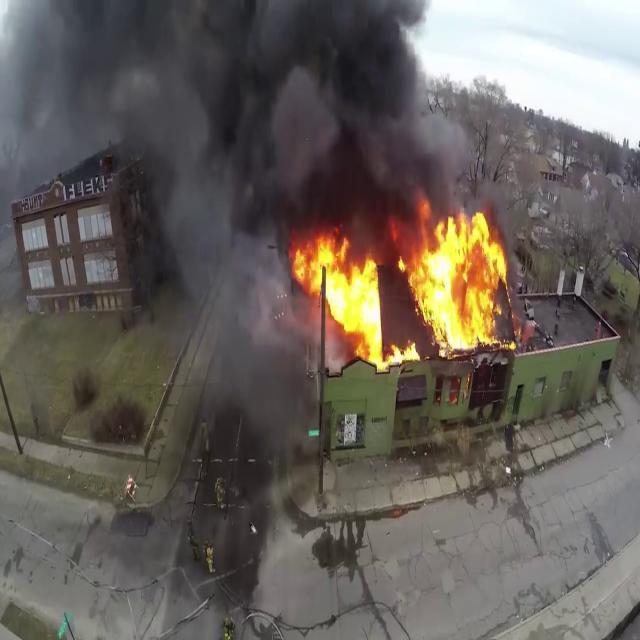Fire: (288, 204, 516, 364)
Smoke: (2, 0, 470, 303)
